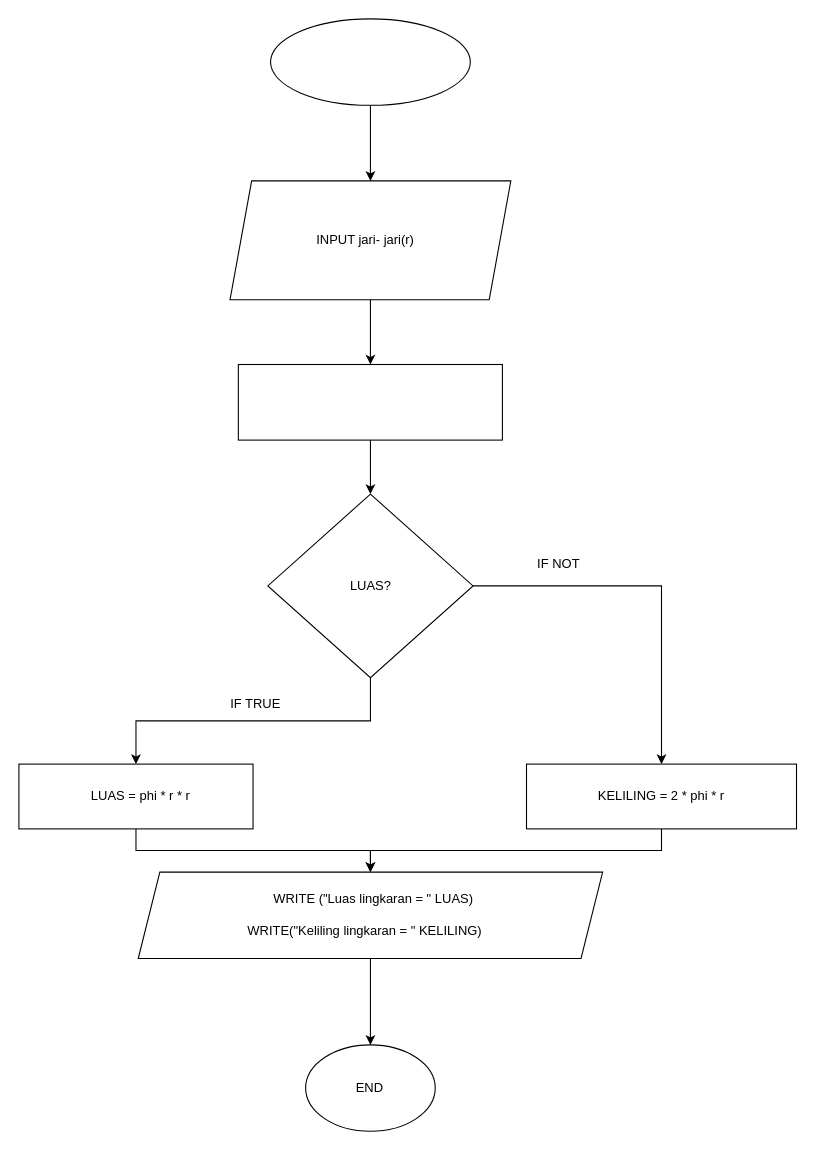
The diagram is 815 pixels wide and 1150 high, and some of its shapes have lost their labels. The centre of each missing label's shape, as x and y in pixels:
"phi = 22/7 or 3.14" belongs at (x=369, y=401).
"START" belongs at (x=369, y=61).
